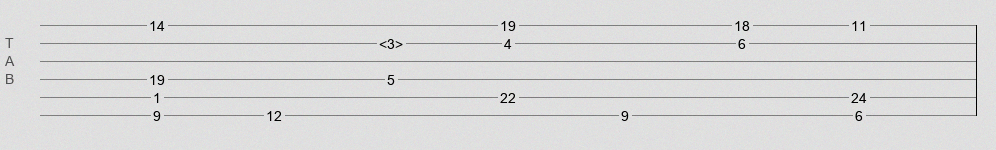1: (153, 90, 161, 100)
11: (851, 18, 867, 28)
12: (266, 108, 282, 118)
14: (149, 18, 165, 28)
18: (734, 18, 750, 28)
19: (149, 72, 165, 82), (500, 18, 516, 28)
22: (500, 90, 516, 100)
24: (851, 90, 867, 100)
4: (504, 36, 512, 46)
5: (387, 72, 395, 82)
6: (738, 36, 746, 46), (855, 108, 863, 118)
9: (153, 108, 161, 118), (621, 108, 629, 118)
harmonic: (379, 36, 403, 46)
